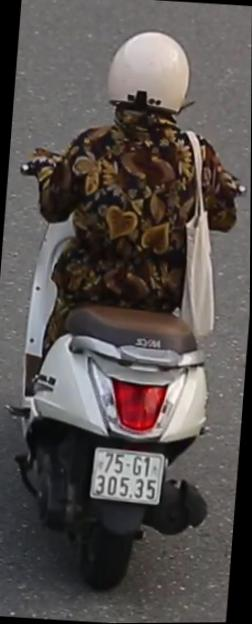LP: (88, 442, 172, 511)
helmet: (100, 21, 202, 147)
